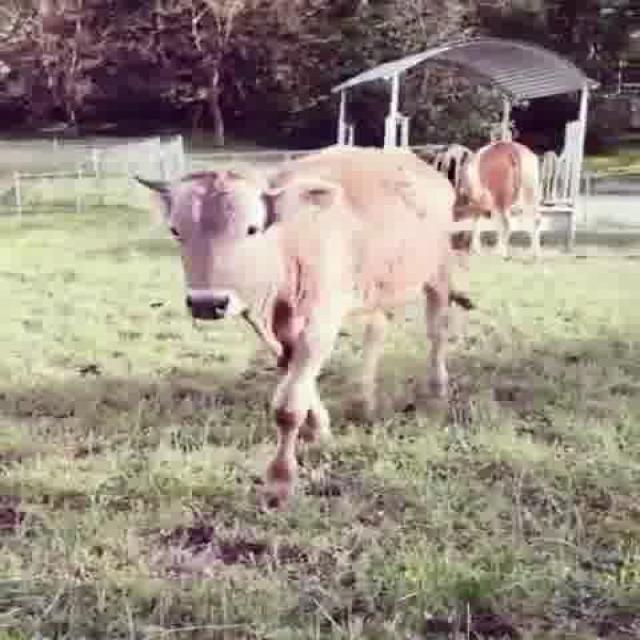cowFace: (123, 156, 337, 324)
